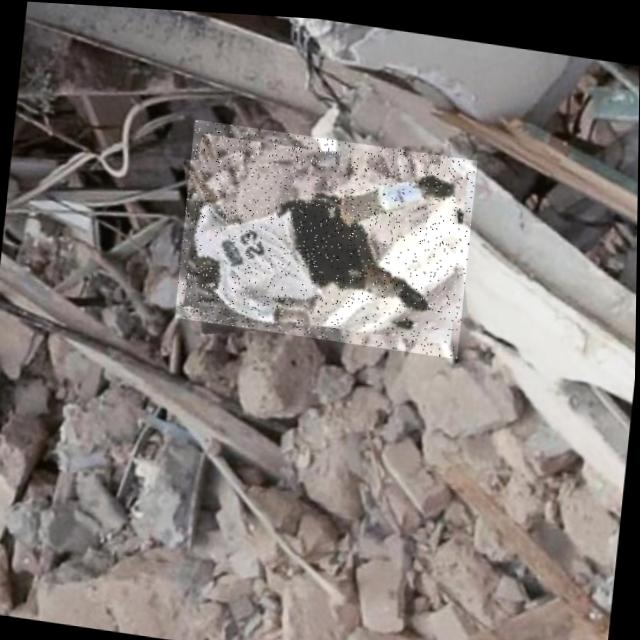Person in Rubble: (175, 115, 478, 353)
